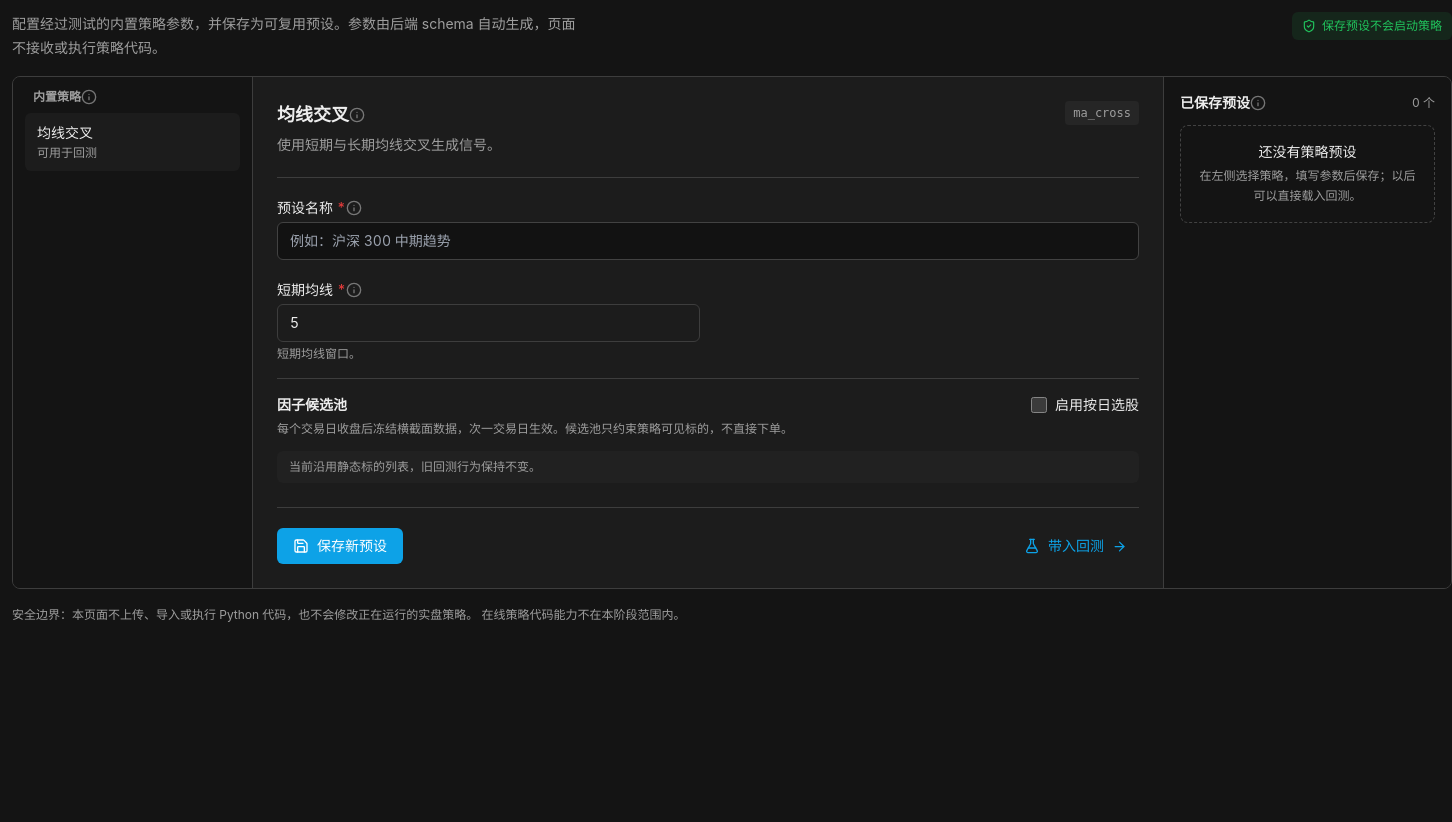
Test case: 目标页面 InfoHint 接入 › 策略预设面板展示预设安全边界
Click the button named "查看“策略预设”说明" at (354, 208), box [344,198,364,218]
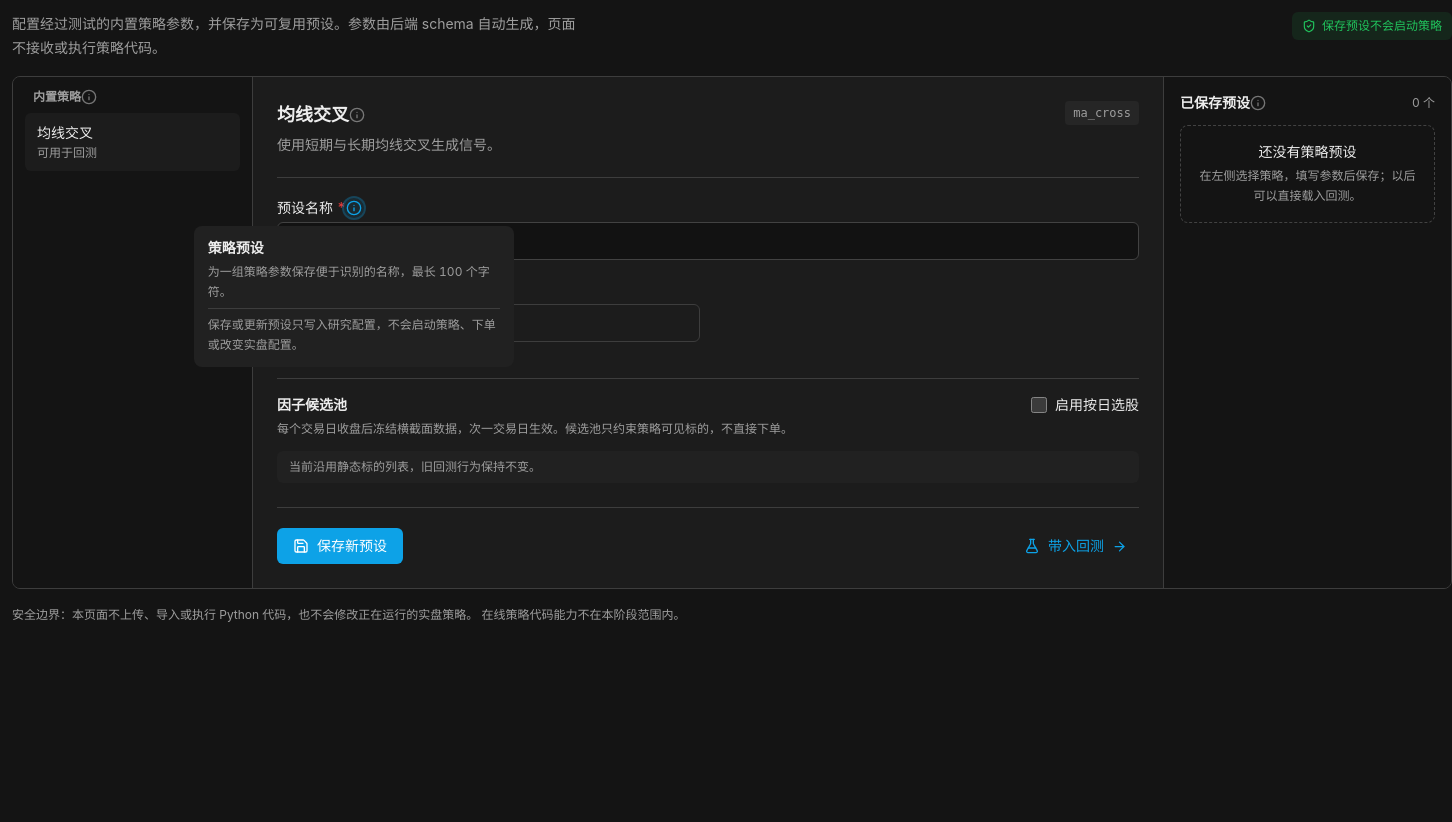
Now the tooltip shows "不会启动策略", box [208,317,496,352]
